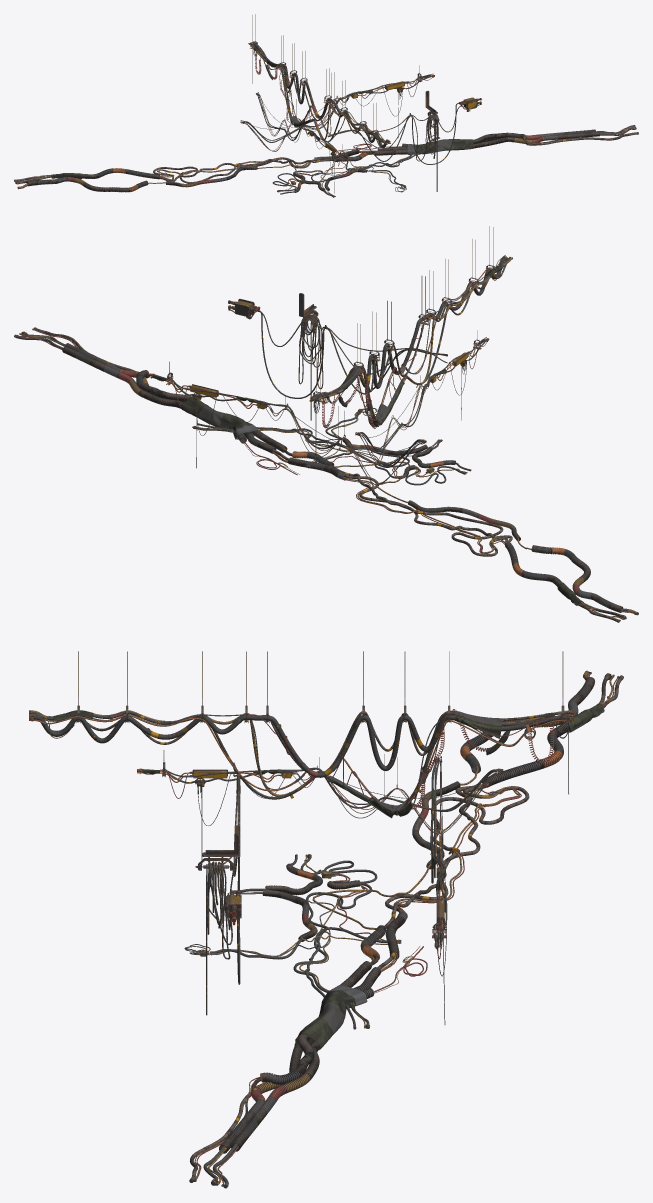
The model's file is Wire.fbx.
3 renders of one model, top to bottom at view 1: azimuth 30°, elevation 25°; view 2: azimuth 150°, elevation 25°; view 3: azimuth 270°, elevation 25°, orthographic. The views are drawn at different scales.
Parts seen in each view (by area): view 1: Wires_01.001_Baked; view 2: Wires_01.001_Baked; view 3: Wires_01.001_Baked.
Part boxes in pixels (box(x1,y1,x2,y2)): Wires_01.001_Baked: box(14, 14, 638, 197); Wires_01.001_Baked: box(14, 226, 638, 622); Wires_01.001_Baked: box(29, 651, 623, 1188).
Size of the model in its own units: 4223 by 1035 by 2064.
